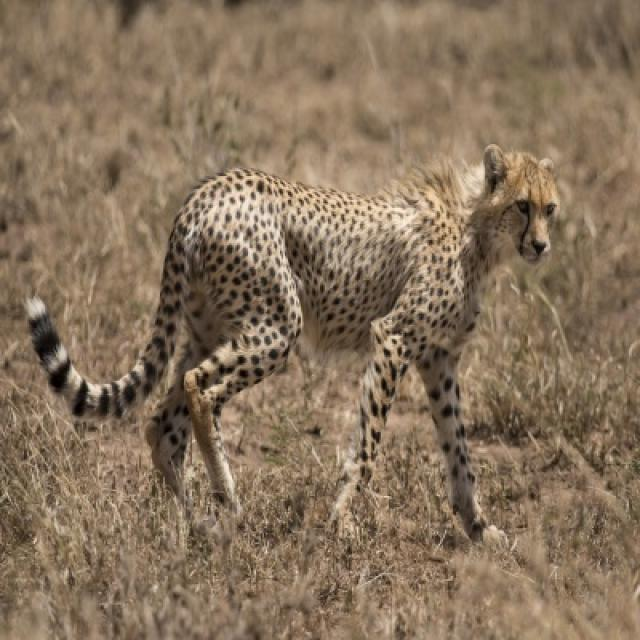Cheetah: (30, 146, 560, 544)
